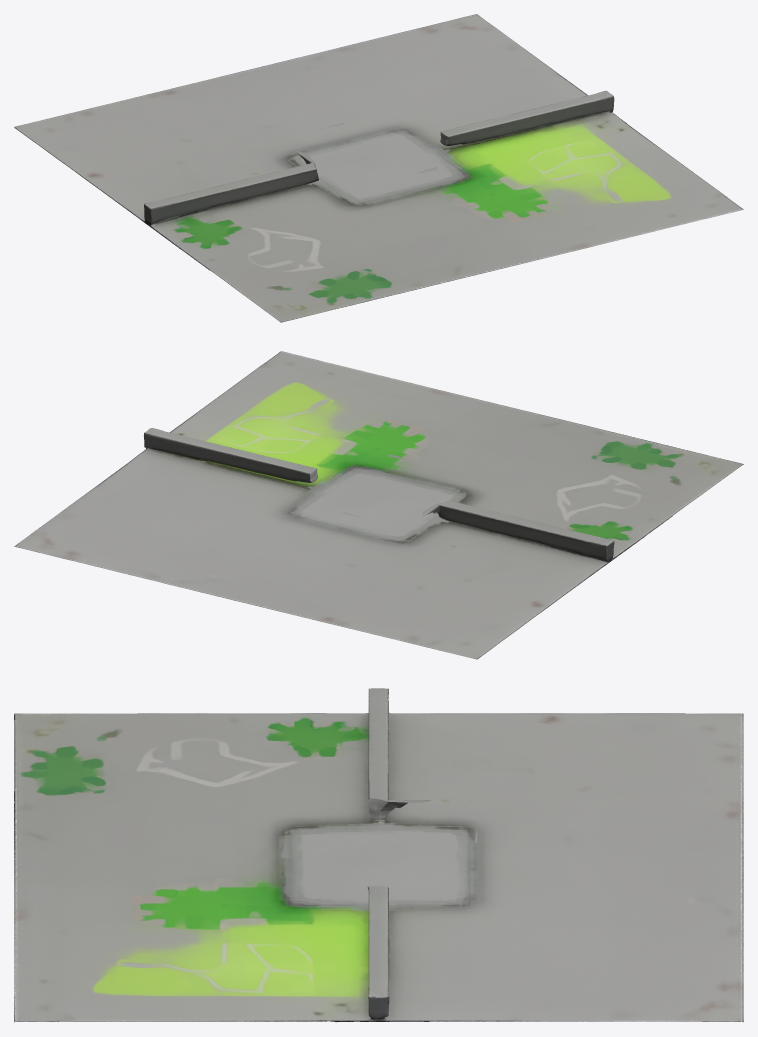
Rendered from fire-station.glb.
The picture shows the model from 3 angles, top to bottom: view 1: azimuth 30°, elevation 25°; view 2: azimuth 150°, elevation 25°; view 3: azimuth 270°, elevation 25°; orthographic projection. The views are drawn at different scales.
Visible parts, largest first — view 1: geometry_0; view 2: geometry_0; view 3: geometry_0.
Boxes of the visible parts, bbox=[...] form: geometry_0: bbox=[14, 14, 743, 322]; geometry_0: bbox=[14, 351, 743, 659]; geometry_0: bbox=[14, 688, 743, 1022].
Size of the model in its own units: 1 by 0.0428 by 1.
1 material, 1 textured.
